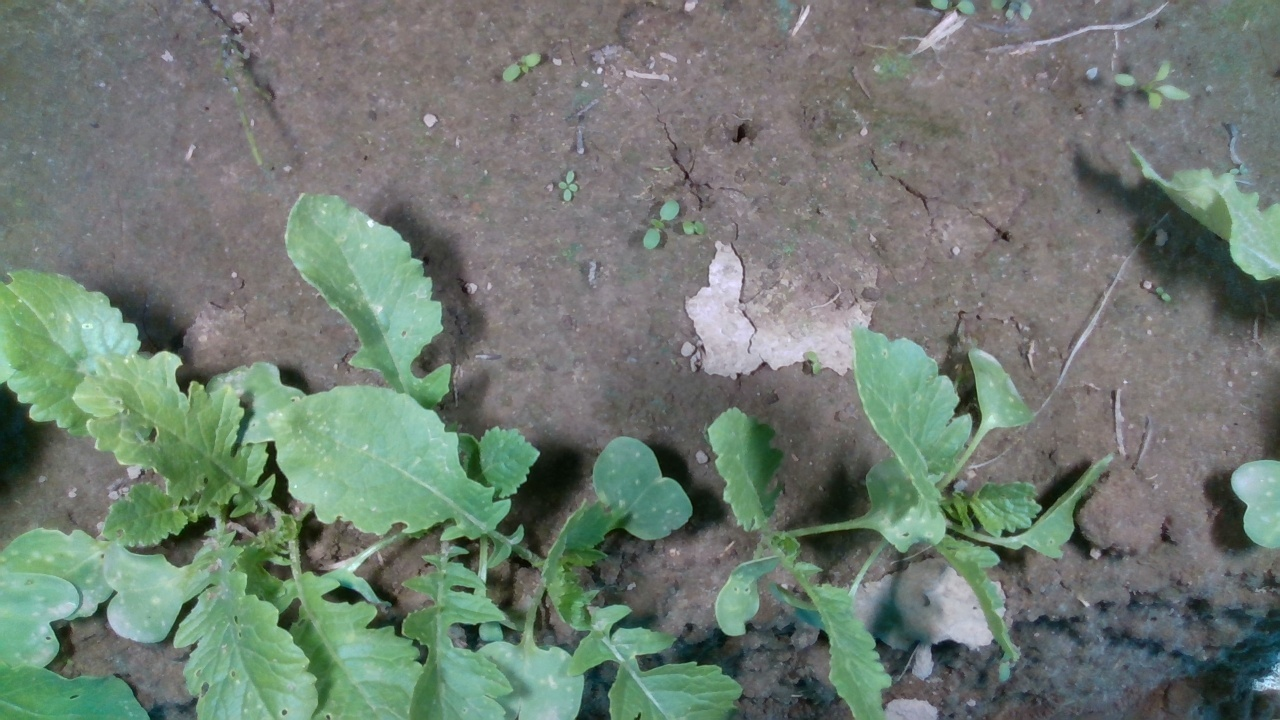weed: (641, 198, 681, 251), (499, 51, 542, 83), (556, 167, 581, 203), (681, 219, 707, 235), (1155, 285, 1171, 303)
